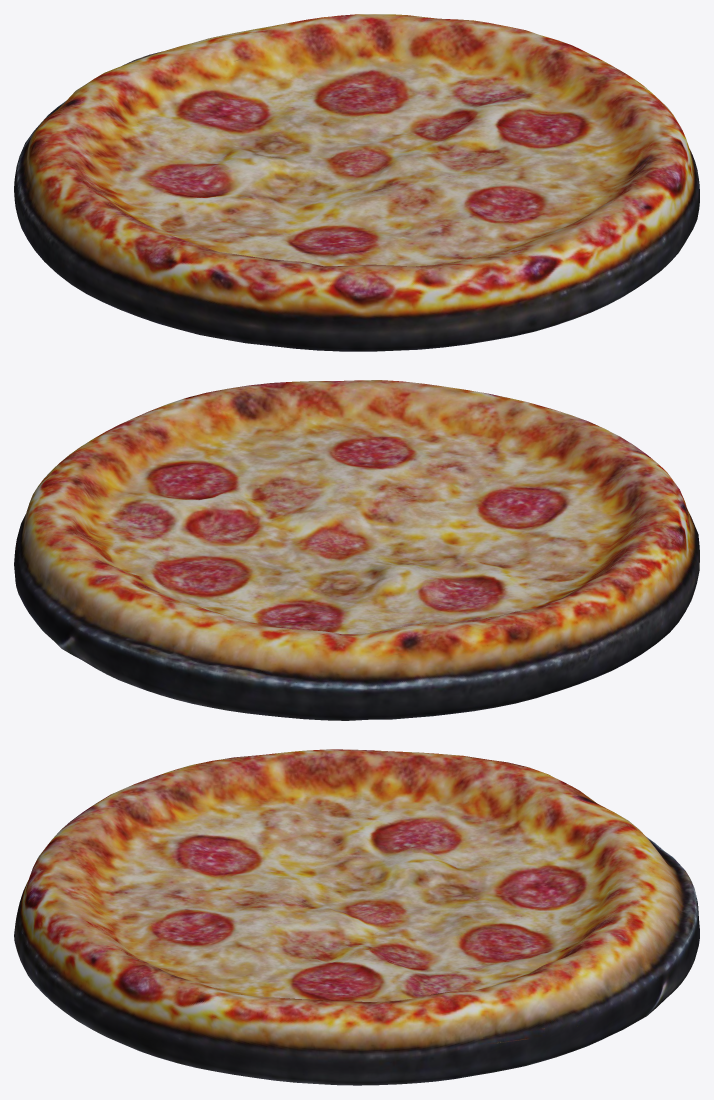
Rendered from pizza.glb.
3 views of the same model, one above another, from view 1: azimuth 30°, elevation 25°; view 2: azimuth 150°, elevation 25°; view 3: azimuth 270°, elevation 25° (orthographic).
Parts seen in each view (by area): view 1: mesh_base_material_0; view 2: mesh_base_material_0; view 3: mesh_base_material_0.
Part boxes in pixels (x1,y1,x2,y2): mesh_base_material_0: [14, 14, 699, 351]; mesh_base_material_0: [14, 380, 699, 720]; mesh_base_material_0: [14, 749, 699, 1085].
Bounding box in the file's own units: 0.9929 × 0.1161 × 0.9996.
Materials: 1 (1 with a texture image).
